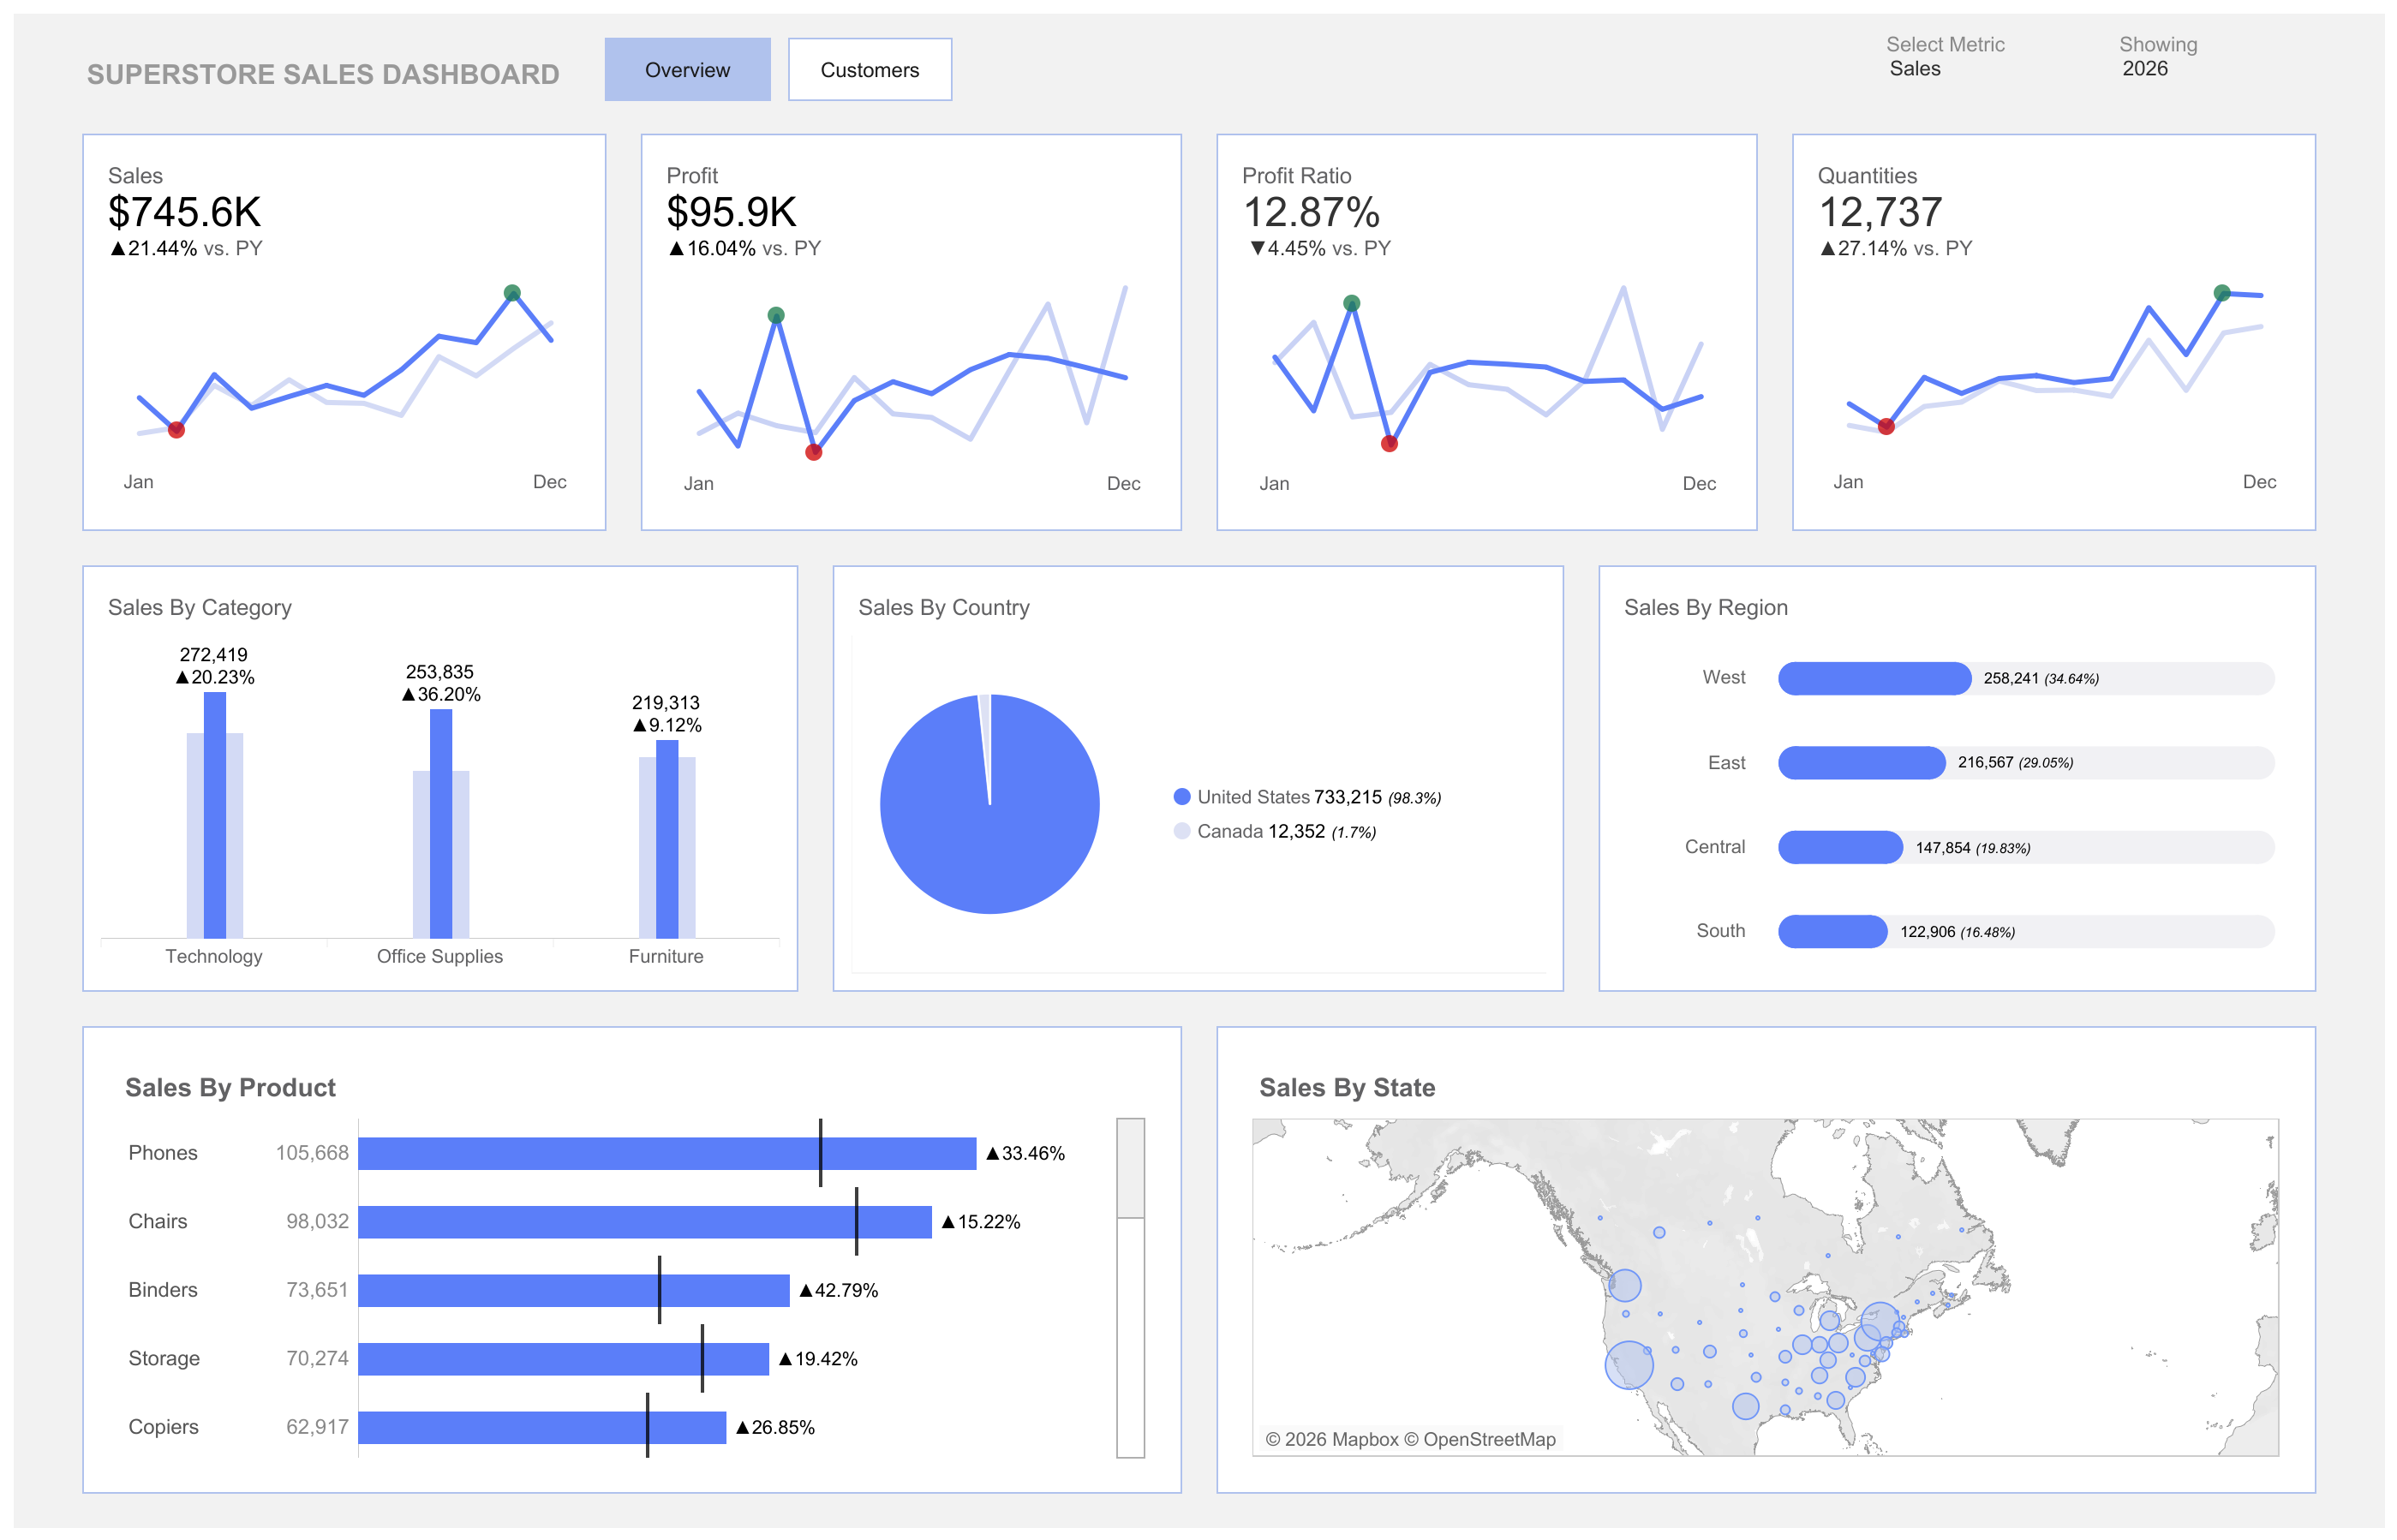

What the dashboard file says about the page in this screenshot:
{"tool":"tableau","page":{"name":"Overview","canvas":[1400,900],"ordinal":1},"visuals":[{"type":"text","box":[8,8,341.3,59.9]},{"type":"blank","box":[560.5,8,540.5,59.9]},{"type":"parameter","param":"[Parameters].[Parameter 2]","box":[1101,8,136,59.9]},{"type":"parameter","param":"[Parameters].[Parameter 1]","box":[1237,8,155,59.9]},{"type":"dashboard-object","box":[353,12,102,52]},{"type":"dashboard-object","box":[455,12,101,52]},{"type":"worksheet","title":"KPI Sales","mark":"Automatic","rows":["Calculation_0256805472923653"],"cols":["Order Date"],"box":[8,68,346,252]},{"type":"worksheet","title":"KPI Profit","mark":"Automatic","rows":["Min/Max Sales (copy)_0256805487521805"],"cols":["Order Date"],"box":[354,68,346,252]},{"type":"worksheet","title":"KPI Profit Ratio","mark":"Automatic","rows":["Min/Max Profit (copy)_0256805557821464"],"cols":["Order Date"],"box":[700,68,346,252]},{"type":"worksheet","title":"KPI Quantity","mark":"Automatic","rows":["Min/Max Sales (copy)_2447882743287813"],"cols":["Order Date"],"box":[1046,68,346,252]},{"type":"worksheet","title":"[Metric] By Category","mark":"Bar","rows":["CY Metric (copy)_2447882749128714","Calculation_2447882741264385"],"cols":["Category"],"box":[8,319.8,458,269.2]},{"type":"worksheet","title":"[Metric] By Country","mark":"Pie","cols":["Calculation_0085629628973074"],"box":[466,319.8,467,269.2]},{"type":"worksheet","title":"[Metric] By Region","mark":"Line","rows":["Region"],"cols":["Calculation_2447882767061009"],"box":[933,319.8,459,269.2]},{"type":"worksheet","title":"Country Color Legend","mark":"Circle","rows":["Country/Region"],"cols":["Calculation_0085629628289041"],"box":[675,455,205,50]},{"type":"worksheet","title":"[Metric] By Product","mark":"Bar","rows":["Sub-Category","Calculation_2447882741264385"],"cols":["Calculation_2447882741264385"],"box":[8,589,692,303]},{"type":"worksheet","title":"[Metric] By State","mark":"Automatic","box":[700,589,692,303]}]}

Visuals, with their boxes in screenshot pixels (x1, y1, x2, y2), scaled from the page's 1400x900 canvas onto the 2397x1540 screenshot:
text: Rect(14, 14, 598, 116)
blank: Rect(959, 14, 1885, 116)
parameter: Rect(1885, 14, 2118, 116)
parameter: Rect(2118, 14, 2383, 116)
dashboard-object: Rect(604, 21, 779, 110)
dashboard-object: Rect(779, 21, 952, 110)
"KPI Sales" worksheet: Rect(14, 116, 606, 547)
"KPI Profit" worksheet: Rect(606, 116, 1198, 547)
"KPI Profit Ratio" worksheet: Rect(1198, 116, 1791, 547)
"KPI Quantity" worksheet: Rect(1791, 116, 2383, 547)
"[Metric] By Category" worksheet (Bar marks): Rect(14, 547, 798, 1008)
"[Metric] By Country" worksheet (Pie marks): Rect(798, 547, 1598, 1008)
"[Metric] By Region" worksheet (Line marks): Rect(1598, 547, 2383, 1008)
"Country Color Legend" worksheet (Circle marks): Rect(1156, 779, 1507, 864)
"[Metric] By Product" worksheet (Bar marks): Rect(14, 1008, 1198, 1526)
"[Metric] By State" worksheet: Rect(1198, 1008, 2383, 1526)
